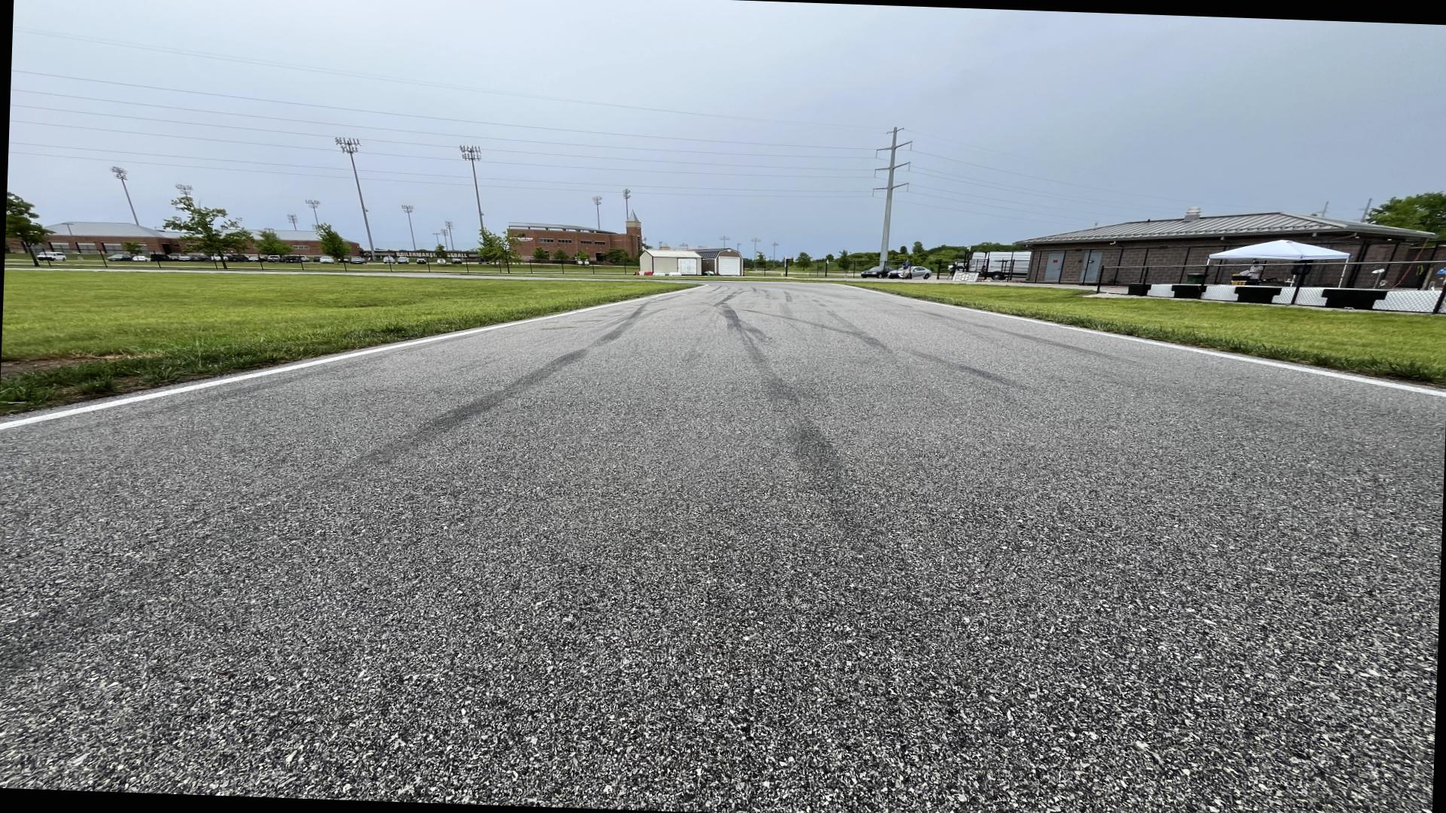white-line: (0, 282, 708, 432), (735, 281, 1445, 397)
